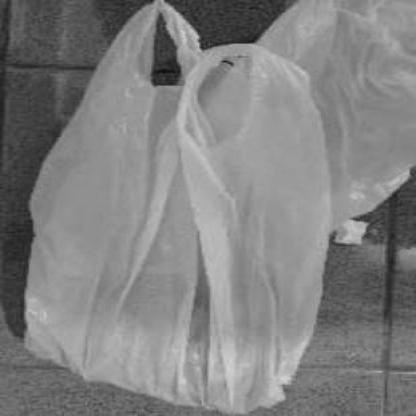objects: (27, 0, 336, 416)
